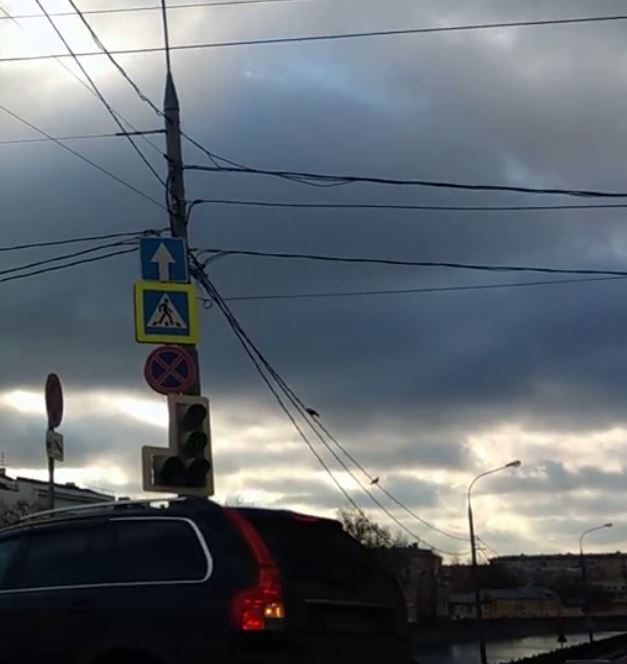Yaya Gecidi: (141, 290, 190, 336)
